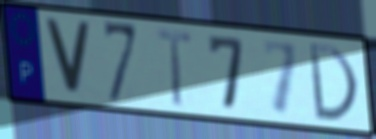7: (206, 33, 248, 114), (103, 19, 142, 105), (260, 38, 301, 117)
D: (306, 40, 361, 125)
T: (154, 25, 195, 109)
V: (41, 15, 94, 100)
